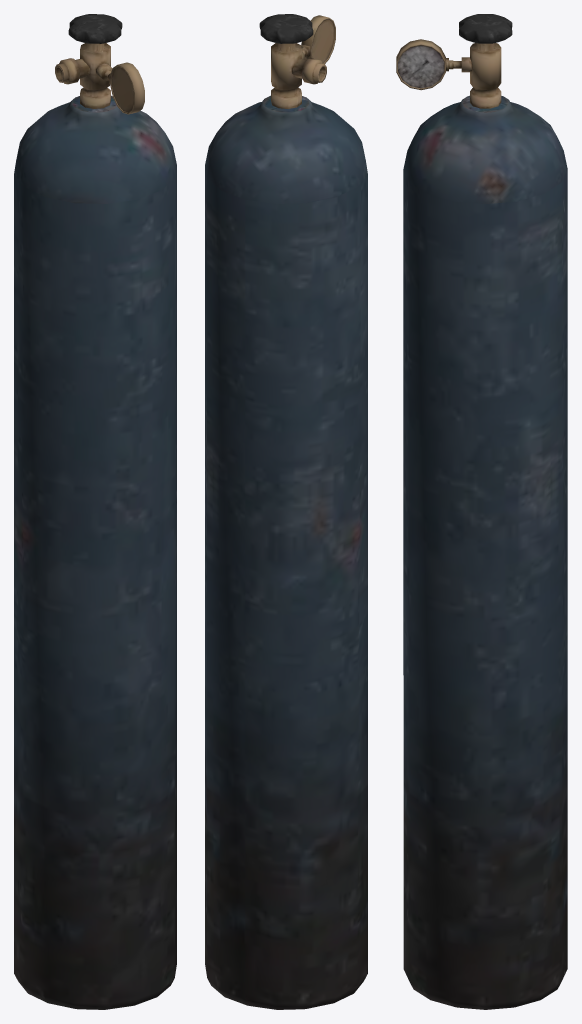
File: gas-cylinder-tall--2.gltf
3 views of the same model, side by side, from view 1: azimuth 30°, elevation 25°; view 2: azimuth 150°, elevation 25°; view 3: azimuth 270°, elevation 25° (orthographic).
Parts seen in each view (by area): view 1: cylinder2, valve2, tap2, dial2, dial.rim2; view 2: cylinder2, valve2, tap2, dial2, dial.rim2; view 3: cylinder2, valve2, dial2, tap2, dial.rim2.
Part boxes in pixels (x1,y1,x2,y2): cylinder2: (14, 95, 176, 1009); valve2: (55, 43, 112, 108); tap2: (68, 14, 122, 43); dial2: (111, 66, 134, 112); dial.rim2: (110, 62, 144, 114); cylinder2: (205, 95, 367, 1009); valve2: (271, 43, 326, 108); tap2: (259, 14, 313, 43); dial2: (312, 19, 334, 63); dial.rim2: (301, 15, 335, 64); cylinder2: (403, 95, 567, 1009); valve2: (446, 43, 501, 108); dial2: (398, 45, 444, 88); tap2: (459, 14, 512, 43); dial.rim2: (396, 39, 445, 90).
Bounding box in the file's own units: 0.2253 × 1.45 × 0.2351.
Materials: 5 (5 with a texture image).
